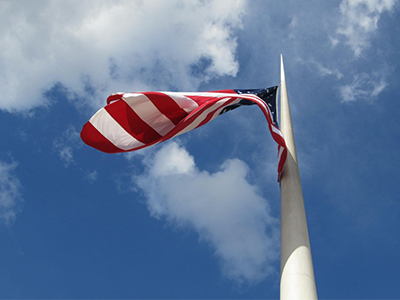America flag: (83, 83, 286, 179)
